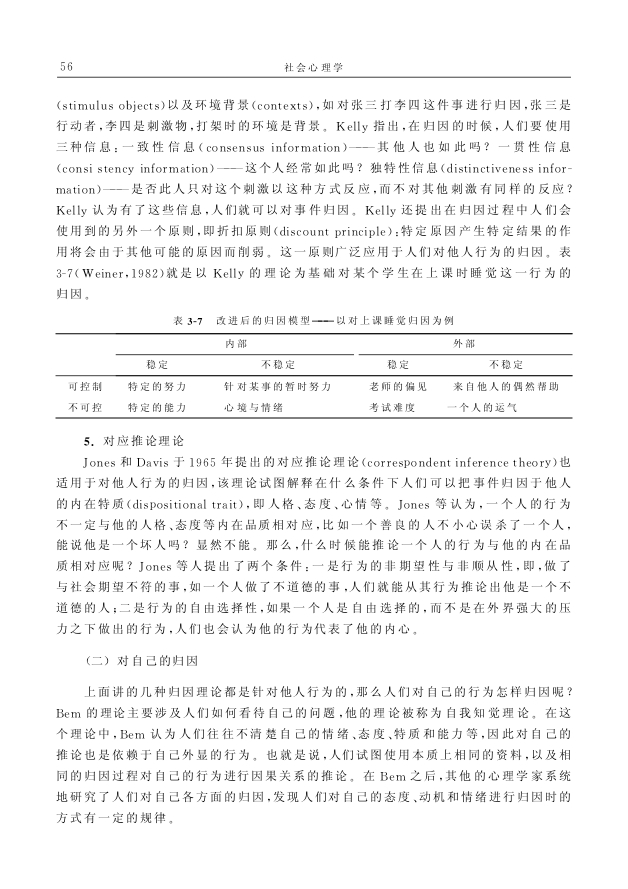table: (55, 333, 573, 421)
